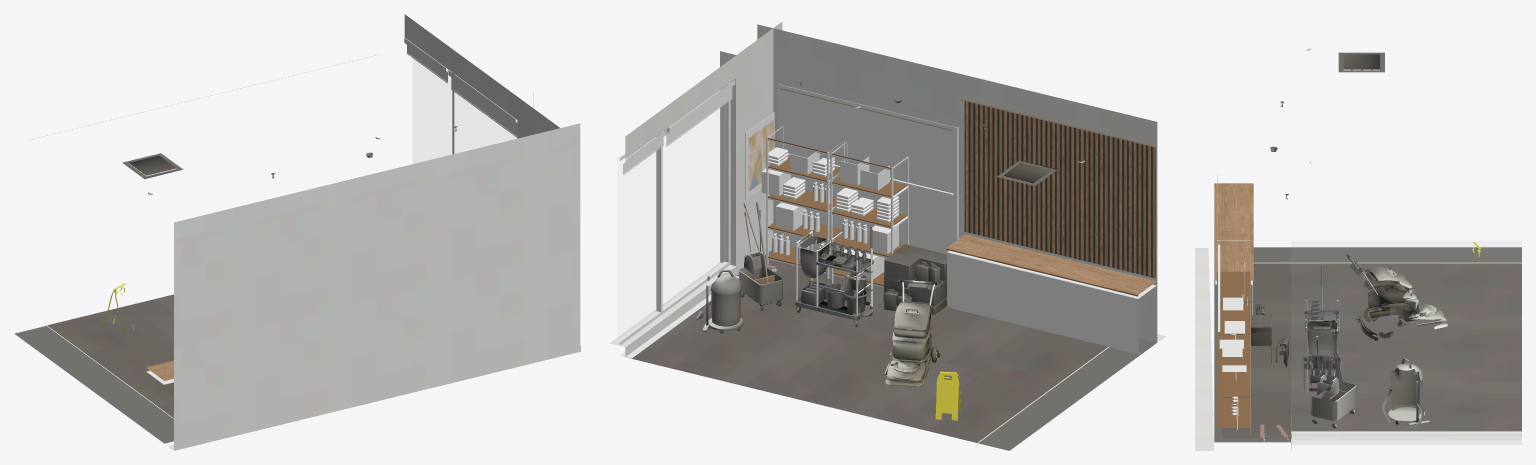
The model's file is z-equipment-lite.full.4e683fbc.glb.
3 views of the same model, side by side, from view 1: azimuth 30°, elevation 25°; view 2: azimuth 150°, elevation 25°; view 3: azimuth 270°, elevation 25° (orthographic). The views are drawn at different scales.
Visible parts, largest first — view 1: equipment_plaster, equipment_bay_floor, equipment_carpet, equipment_satin, equipment_fx; view 2: equipment_satin, equipment_bay_floor, equipment_plaster, equipment_proxy_slat, equipment_fx, equipment_metal_lit, equipment_carpet, equipment_oak, equipment_steel_frame_shelves_01, equipment_art, equipment_WetFloorSign_01, equipment_emit; view 3: equipment_bay_floor, equipment_fx, equipment_carpet, equipment_plaster, equipment_steel_frame_shelves_01, equipment_oak, equipment_satin, equipment_metal_lit.
Part boxes in pixels (<box>): equipment_plaster: <box>167,14,580,450</box>; equipment_bay_floor: <box>47,294,173,417</box>; equipment_carpet: <box>14,326,173,443</box>; equipment_satin: <box>146,38,517,384</box>; equipment_fx: <box>122,126,457,178</box>; equipment_satin: <box>615,80,1156,358</box>; equipment_bay_floor: <box>632,259,1107,442</box>; equipment_plaster: <box>610,22,1165,356</box>; equipment_proxy_slat: <box>964,101,1155,278</box>; equipment_fx: <box>696,81,1057,386</box>; equipment_metal_lit: <box>745,112,1109,442</box>; equipment_carpet: <box>626,250,1156,450</box>; equipment_oak: <box>946,234,1156,296</box>; equipment_steel_frame_shelves_01: <box>768,138,906,285</box>; equipment_art: <box>748,120,773,191</box>; equipment_WetFloorSign_01: <box>935,371,960,420</box>; equipment_emit: <box>780,88,1153,146</box>; equipment_bay_floor: <box>1222,263,1521,438</box>; equipment_fx: <box>1227,52,1447,428</box>; equipment_carpet: <box>1214,247,1521,442</box>; equipment_plaster: <box>1195,248,1521,450</box>; equipment_steel_frame_shelves_01: <box>1217,271,1250,427</box>; equipment_oak: <box>1214,183,1253,282</box>; equipment_satin: <box>1215,48,1521,444</box>; equipment_metal_lit: <box>1217,240,1521,433</box>.
Bounding box in the file's own units: 6.25 × 3.36 × 4.25.
Materials: 14 (7 with a texture image).
